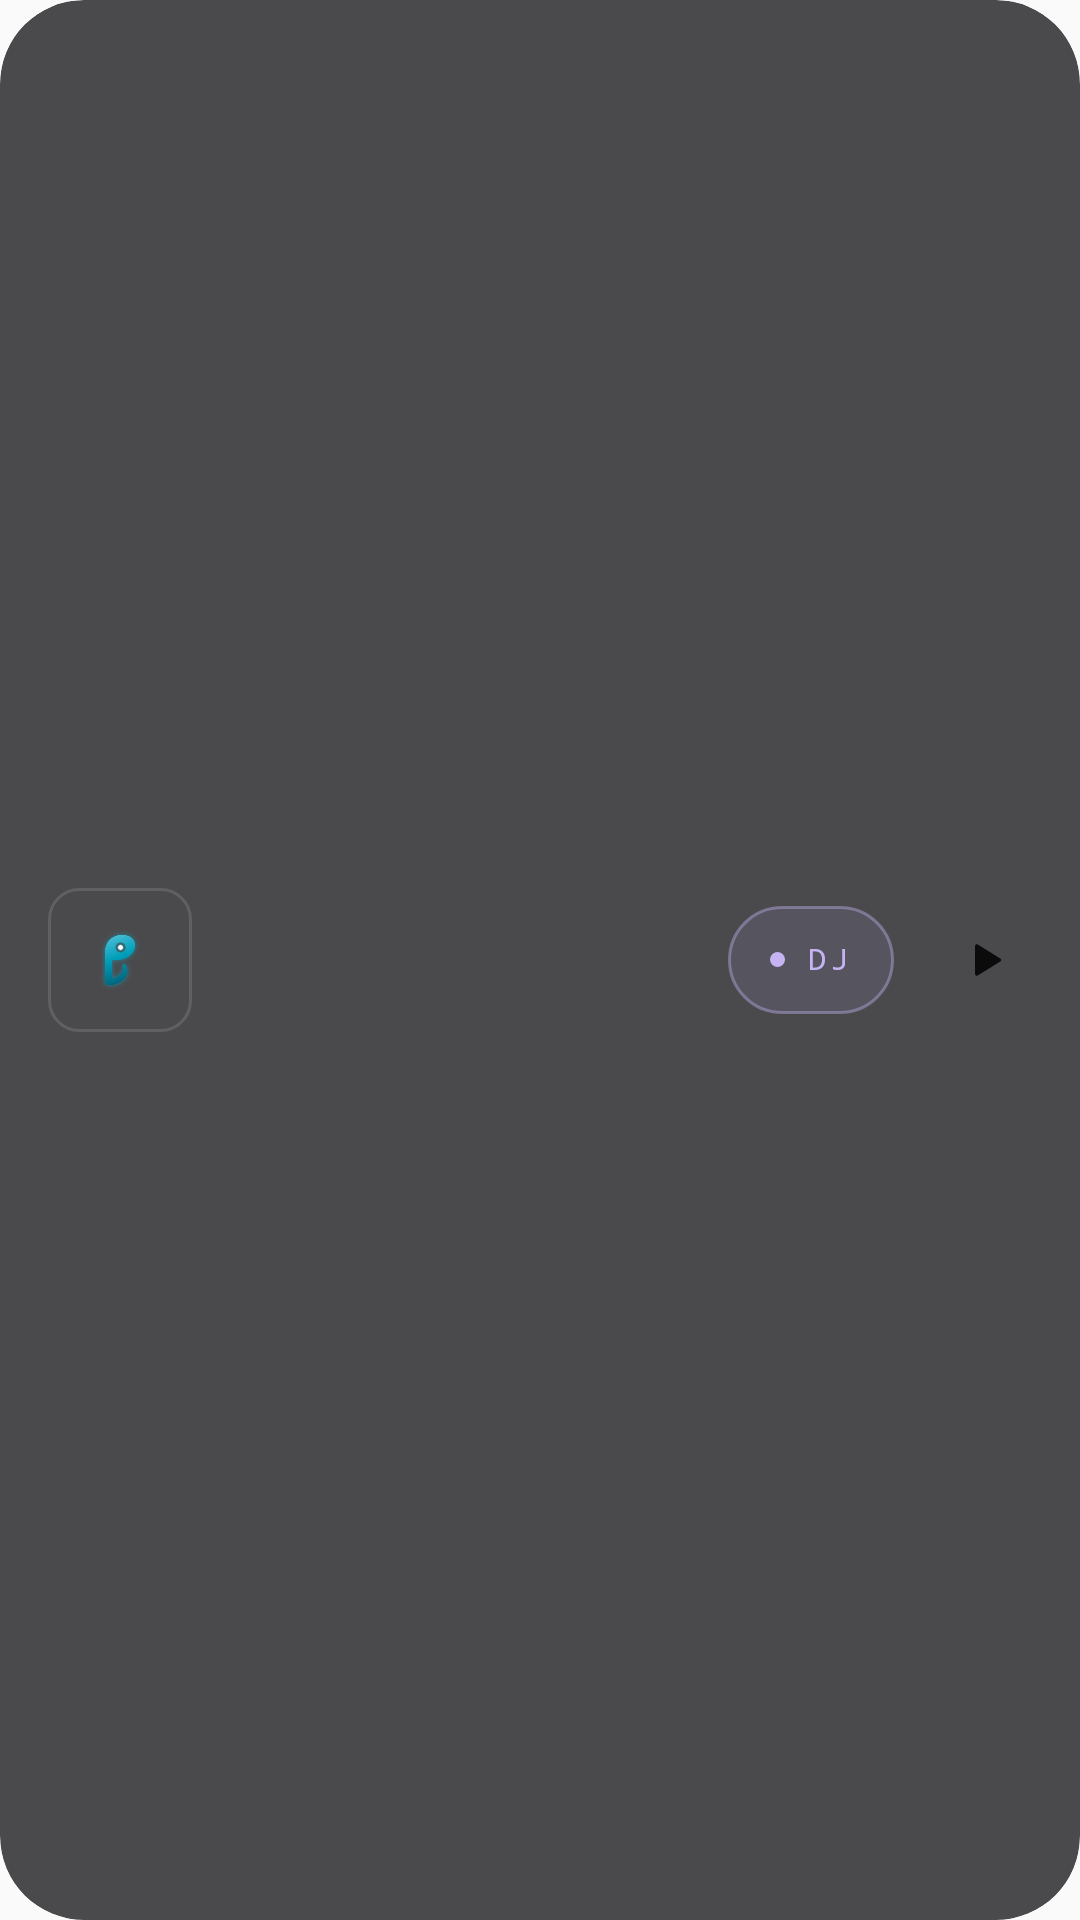

Named icons in this screenshot (1080w x 1920h) and their bounding boxes, (x1, y1, x2, y2):
mark: (104, 934, 136, 986)
